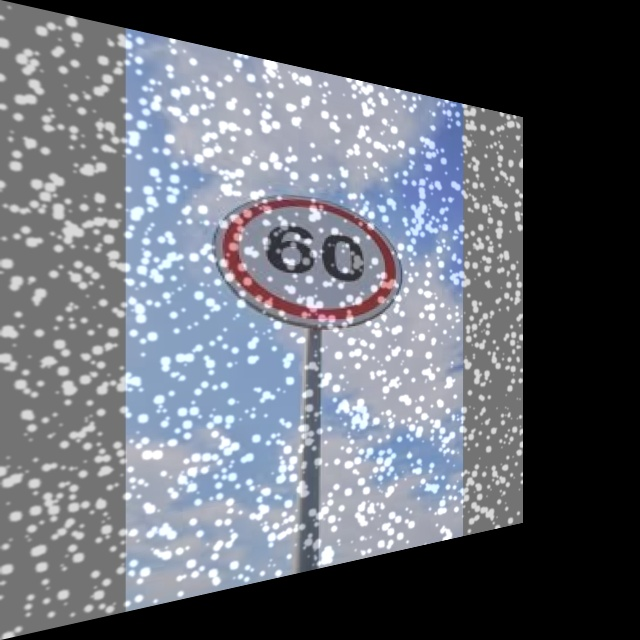Speed_Limit_60: (216, 181, 409, 329)
